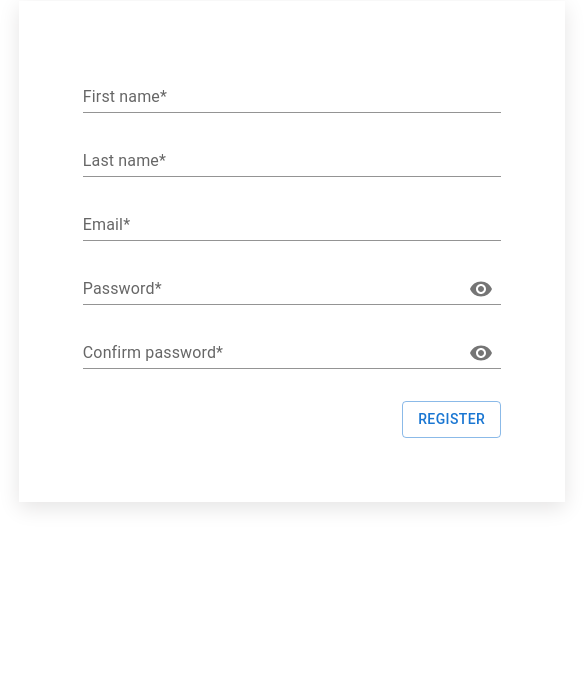
Test: Register page component › Should show an error message when passwords do not match
The width and height of the screenshot is (585, 673).
Expected: the password field with test id "confirm-passwordInput" is shown, [83, 337, 453, 369]
Type "password" into the password field with test id "passwordInput" at (268, 289), box [83, 273, 453, 305]
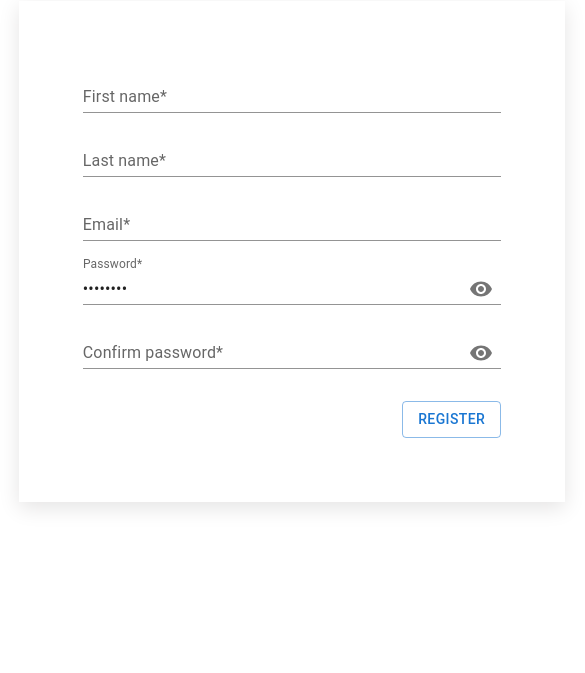
Type "password1" into the password field with test id "confirm-passwordInput" at (268, 353), box [83, 337, 453, 369]
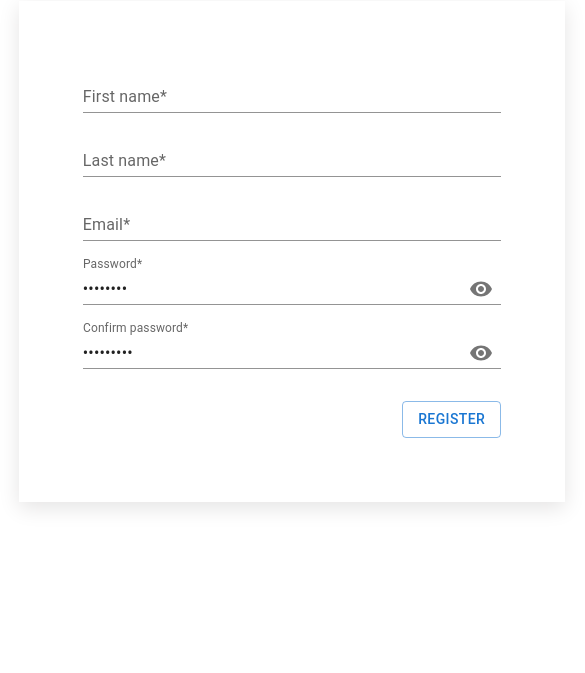
Click the button with test id "registerButton" at (452, 419), box [402, 401, 501, 438]
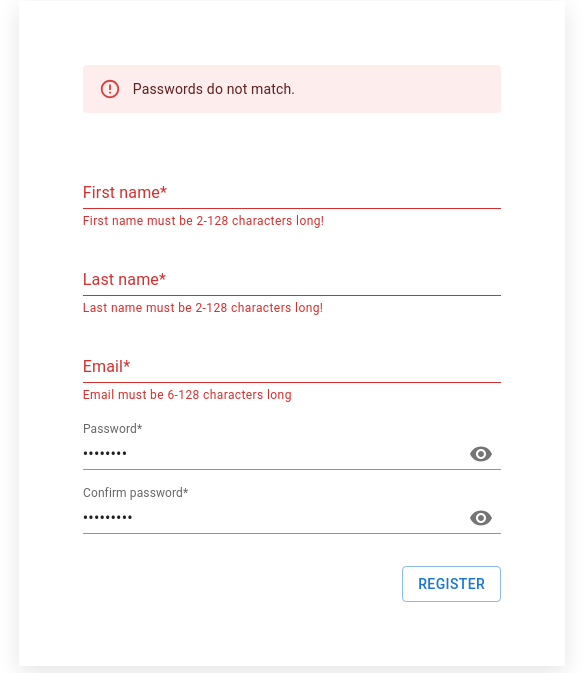
Expected: the text "Passwords do not match." is shown, [133, 81, 295, 97]
